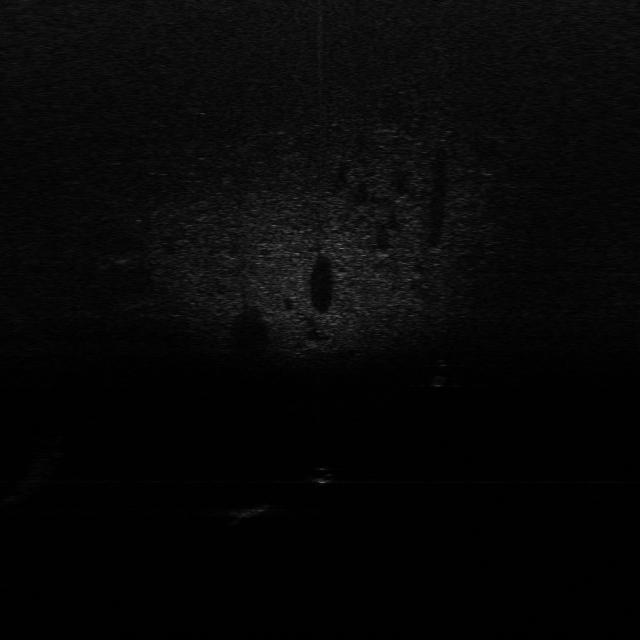ball: (307, 463, 338, 485)
square cage: (226, 499, 270, 520)
tyre: (427, 357, 453, 390)
